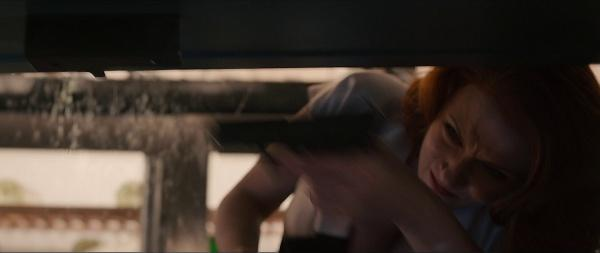Gun: (210, 114, 384, 164)
